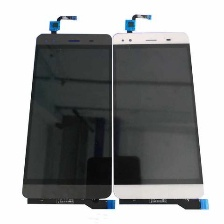phone: (18, 30, 113, 203), (111, 31, 207, 202)
